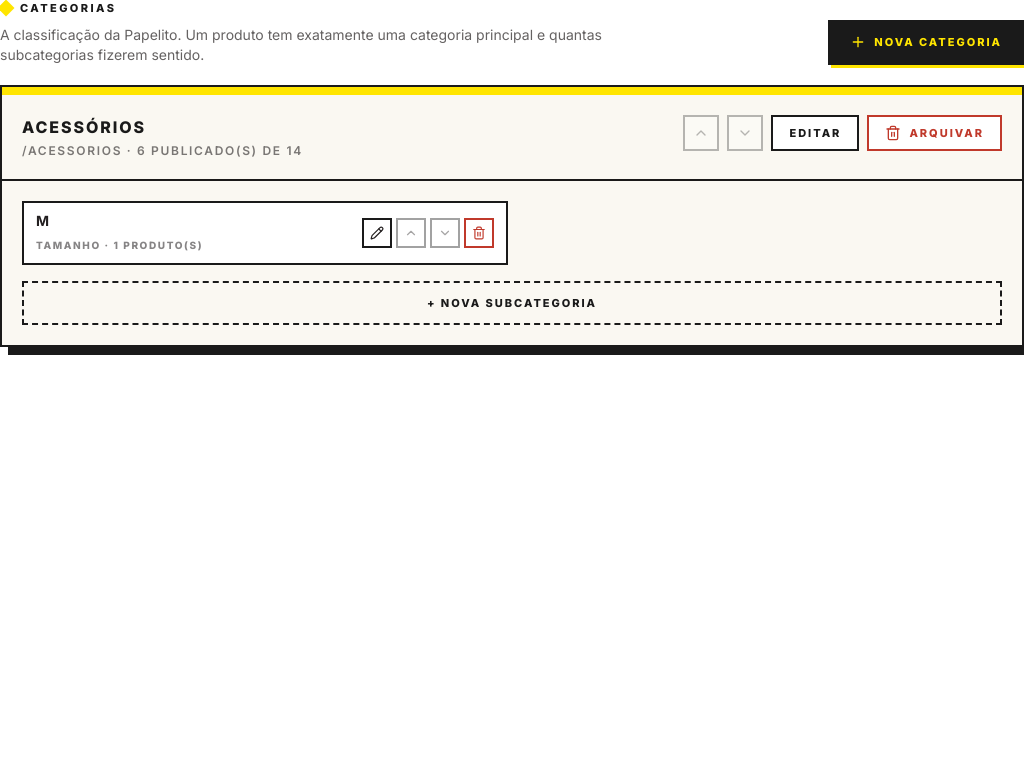
Test case: CategoriesManager - edição de subcategoria › não deixa editar o slug de uma subcategoria que já tem produtos
Click the button named "Editar M": (377, 232) [362, 218, 392, 248]
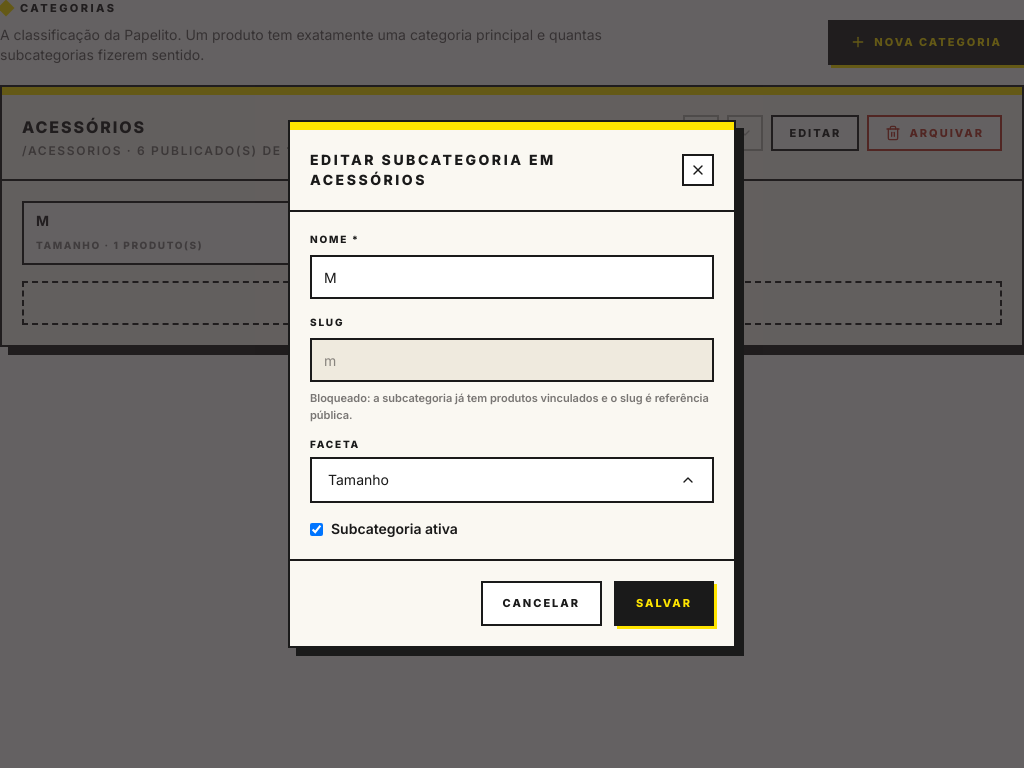
expect the field labelled "Slug" is disabled: met, box [310, 338, 714, 382]
expect the text "Bloqueado: a subcategoria já tem produtos" is shown: met, box [310, 391, 709, 422]
Replace the text in the field labelled "Nome *" with "Bandeja M": (512, 277) [310, 255, 714, 299]
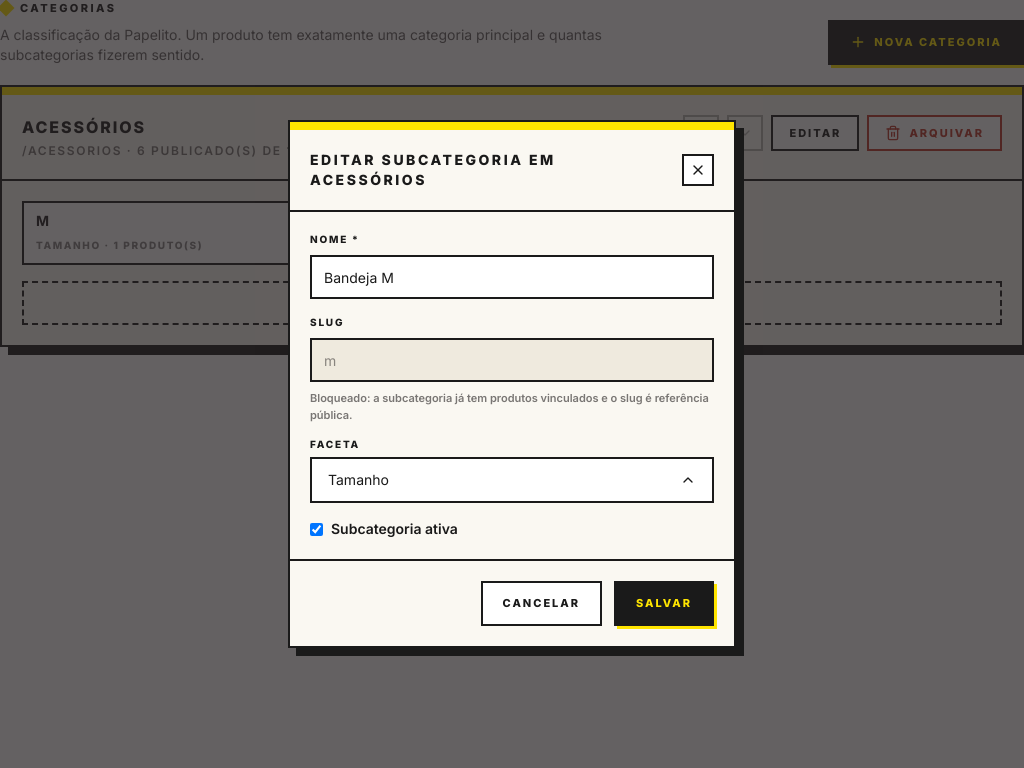
Click the button "Salvar": (664, 604) [614, 581, 714, 626]
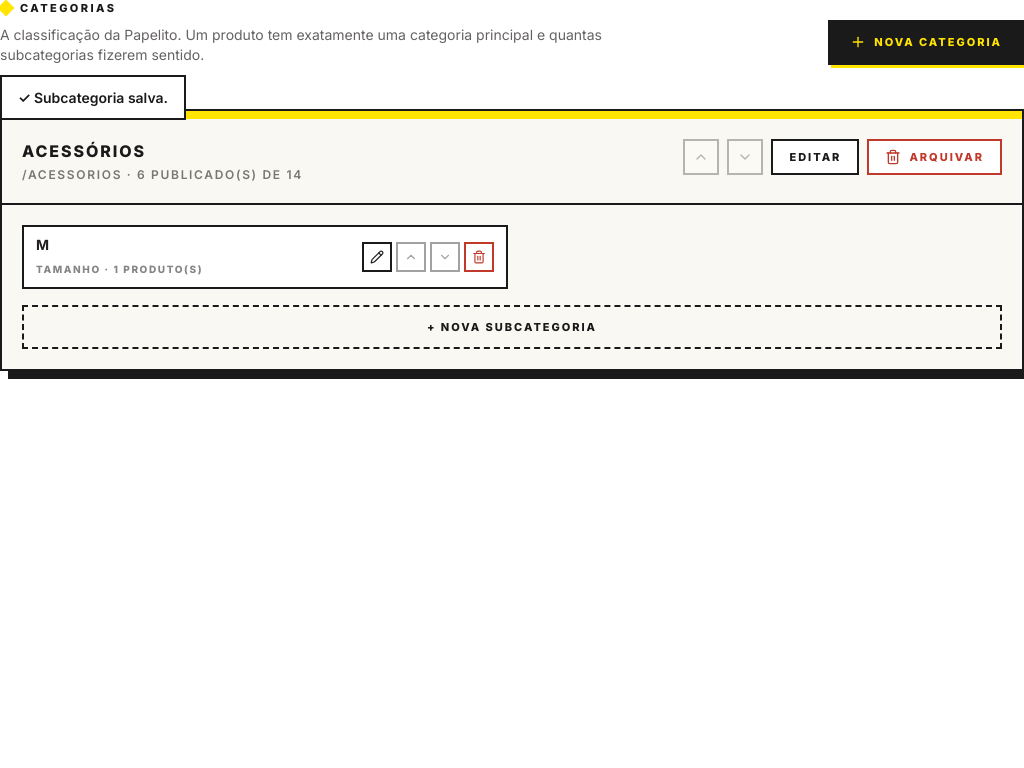
expect the heading "subcategoria em Acessórios" is gone: met
